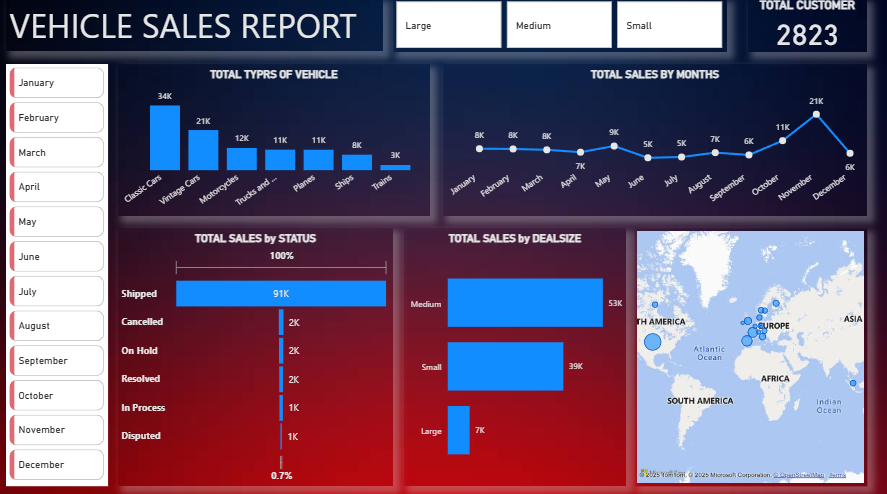

Layout of this report page (visuals, bound fields, positions):
{"tool":"powerbi","page":{"name":"Page 1","canvas":[1280,720],"ordinal":0},"visuals":[{"type":"textbox","box":[10.1,0,542.6,77.3],"z":0},{"type":"advancedSlicerVisual","fields":{"Values":["Sales_Data1.DEALSIZE"]},"box":[567.4,0,481,77.8],"z":1000},{"type":"card","title":"TOTAL CUSTOMER","fields":{"Values":["CountNonNull(Sales_Data1.Contact Person)"]},"box":[1078.6,0,171.4,77.8],"z":2000},{"type":"advancedSlicerVisual","fields":{"Values":["Sales_Data1.ORDERDATE.1.Variation.Date Hierarchy.Month"]},"box":[10.1,95,146.9,607.7],"z":3000},{"type":"clusteredColumnChart","title":"TOTAL TYPRS OF VEHICLE","fields":{"Y":["Sum(Sales_Data1.QUANTITYORDERED)"],"Category":["Sales_Data1.PRODUCTLINE"]},"box":[171.4,95,449.3,218.9],"z":4000},{"type":"lineChart","title":"TOTAL SALES BY MONTHS","fields":{"Y":["Sum(Sales_Data1.QUANTITYORDERED)"],"Category":["Sales_Data1.ORDERDATE.1.Variation.Date Hierarchy.Month","Sales_Data1.ORDERDATE.1.Variation.Date Hierarchy.Day"]},"box":[639.4,95,610.6,218.9],"z":5000},{"type":"map","fields":{"Category":["Sales_Data1.COUNTRY"],"Size":["Sum(Sales_Data1.QUANTITYORDERED)"]},"box":[914.4,331.2,335.5,371.5],"z":6000},{"type":"funnel","title":"TOTAL SALES by STATUS","fields":{"Category":["Sales_Data1.STATUS"],"Y":["Sum(Sales_Data1.QUANTITYORDERED)"]},"box":[171.4,331.2,396,371.5],"z":7000},{"type":"clusteredBarChart","title":"TOTAL SALES by DEALSIZE","fields":{"Category":["Sales_Data1.DEALSIZE"],"Y":["Sum(Sales_Data1.QUANTITYORDERED)"]},"box":[583.2,331.2,319.7,371.5],"z":8000}]}

Visuals, with their boxes in screenshot pixels (x1, y1, x2, y2), scaled from the page's 1280x720 canvas onto the 887x494 screenshot:
textbox: (7,0,383,53)
advancedSlicerVisual - Sales_Data1.DEALSIZE: (393,0,727,53)
"TOTAL CUSTOMER" card: (747,0,866,53)
advancedSlicerVisual - Sales_Data1.ORDERDATE.1.Variation.Date Hierarchy.Month: (7,65,109,482)
"TOTAL TYPRS OF VEHICLE" clusteredColumnChart: (119,65,430,215)
"TOTAL SALES BY MONTHS" lineChart: (443,65,866,215)
map - Sales_Data1.COUNTRY x Sum(Sales_Data1.QUANTITYORDERED): (634,227,866,482)
"TOTAL SALES by STATUS" funnel: (119,227,393,482)
"TOTAL SALES by DEALSIZE" clusteredBarChart: (404,227,626,482)
